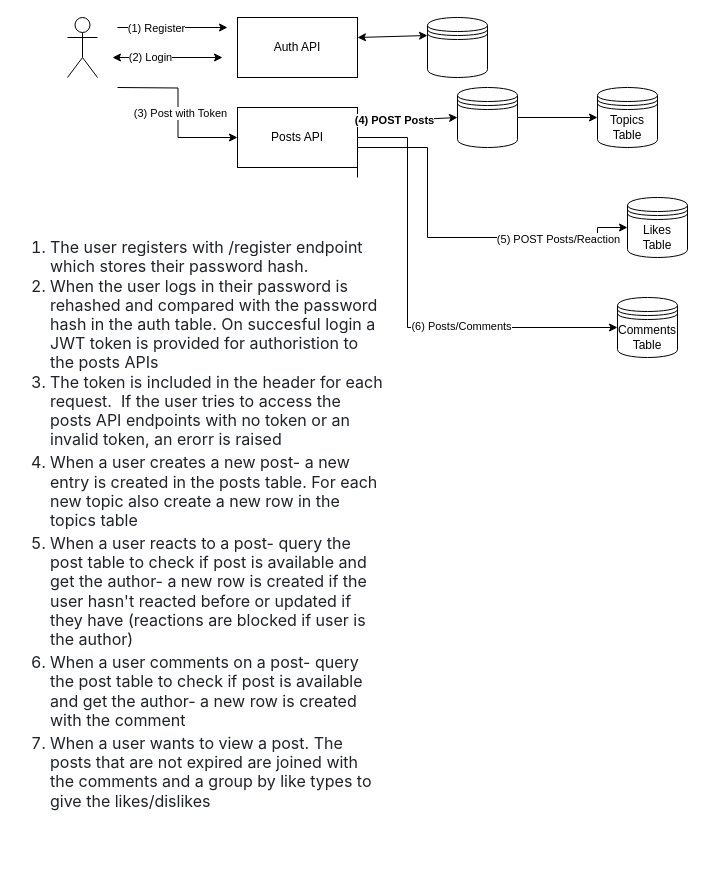
Some shapes in this 705 by 875 pixel diagram are drawn without their labels. The shapes that lost their labels are listed below. From the top down, each one's centre as x and y in pixels, then its label:
At pixel 82 47: "Actor".
At pixel 457 47: "Auth Table".
At pixel 487 117: "Post Table".
